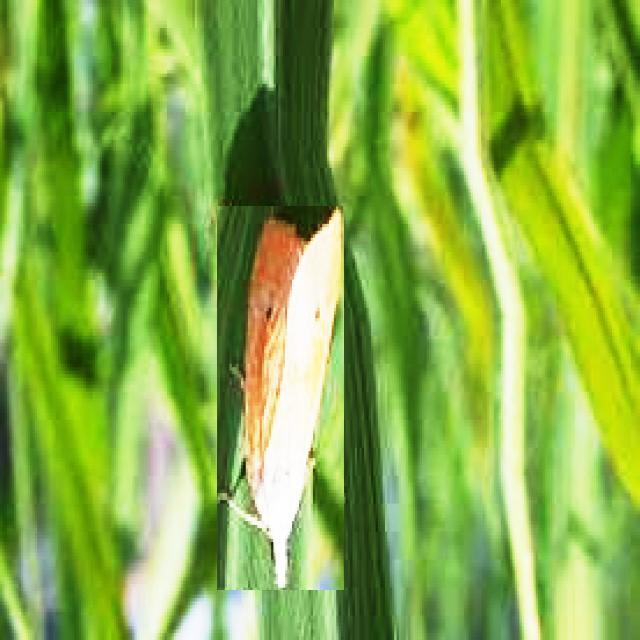stem-borer: (217, 206, 344, 590)
